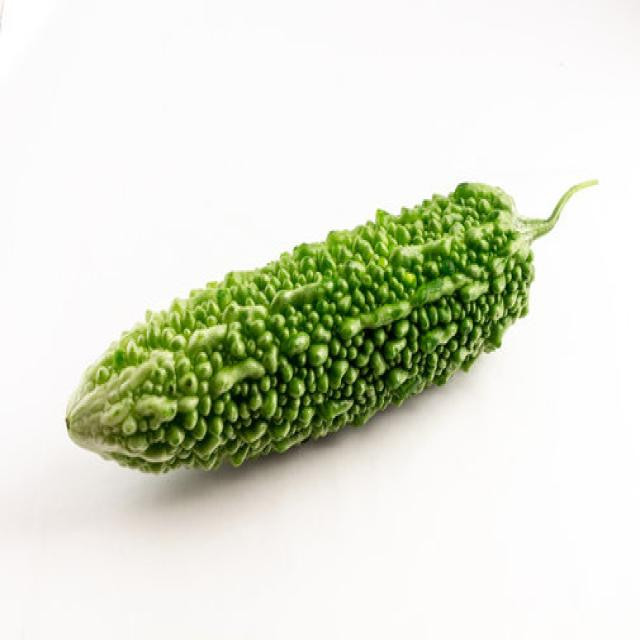Bitter_Gourd: (64, 174, 598, 475)
